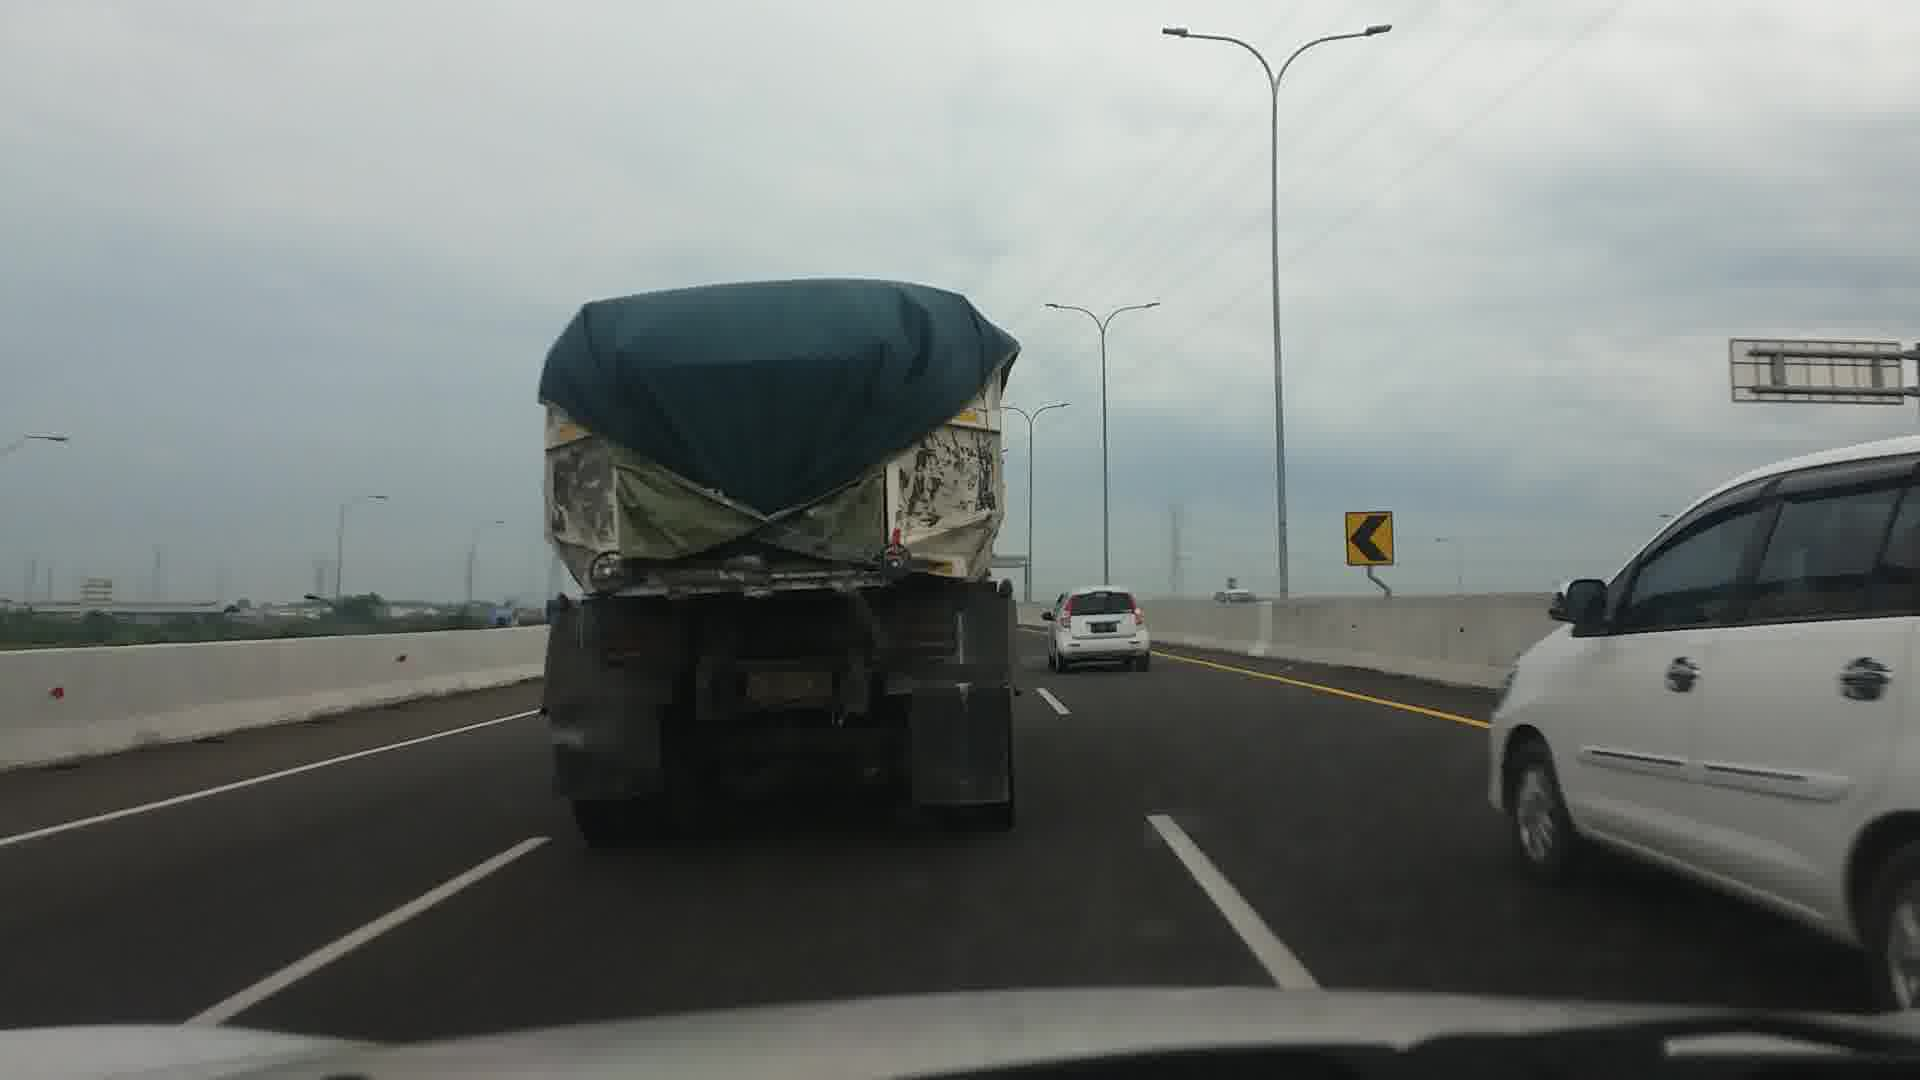plate_positive: (746, 673, 833, 698), (1091, 622, 1117, 633)
